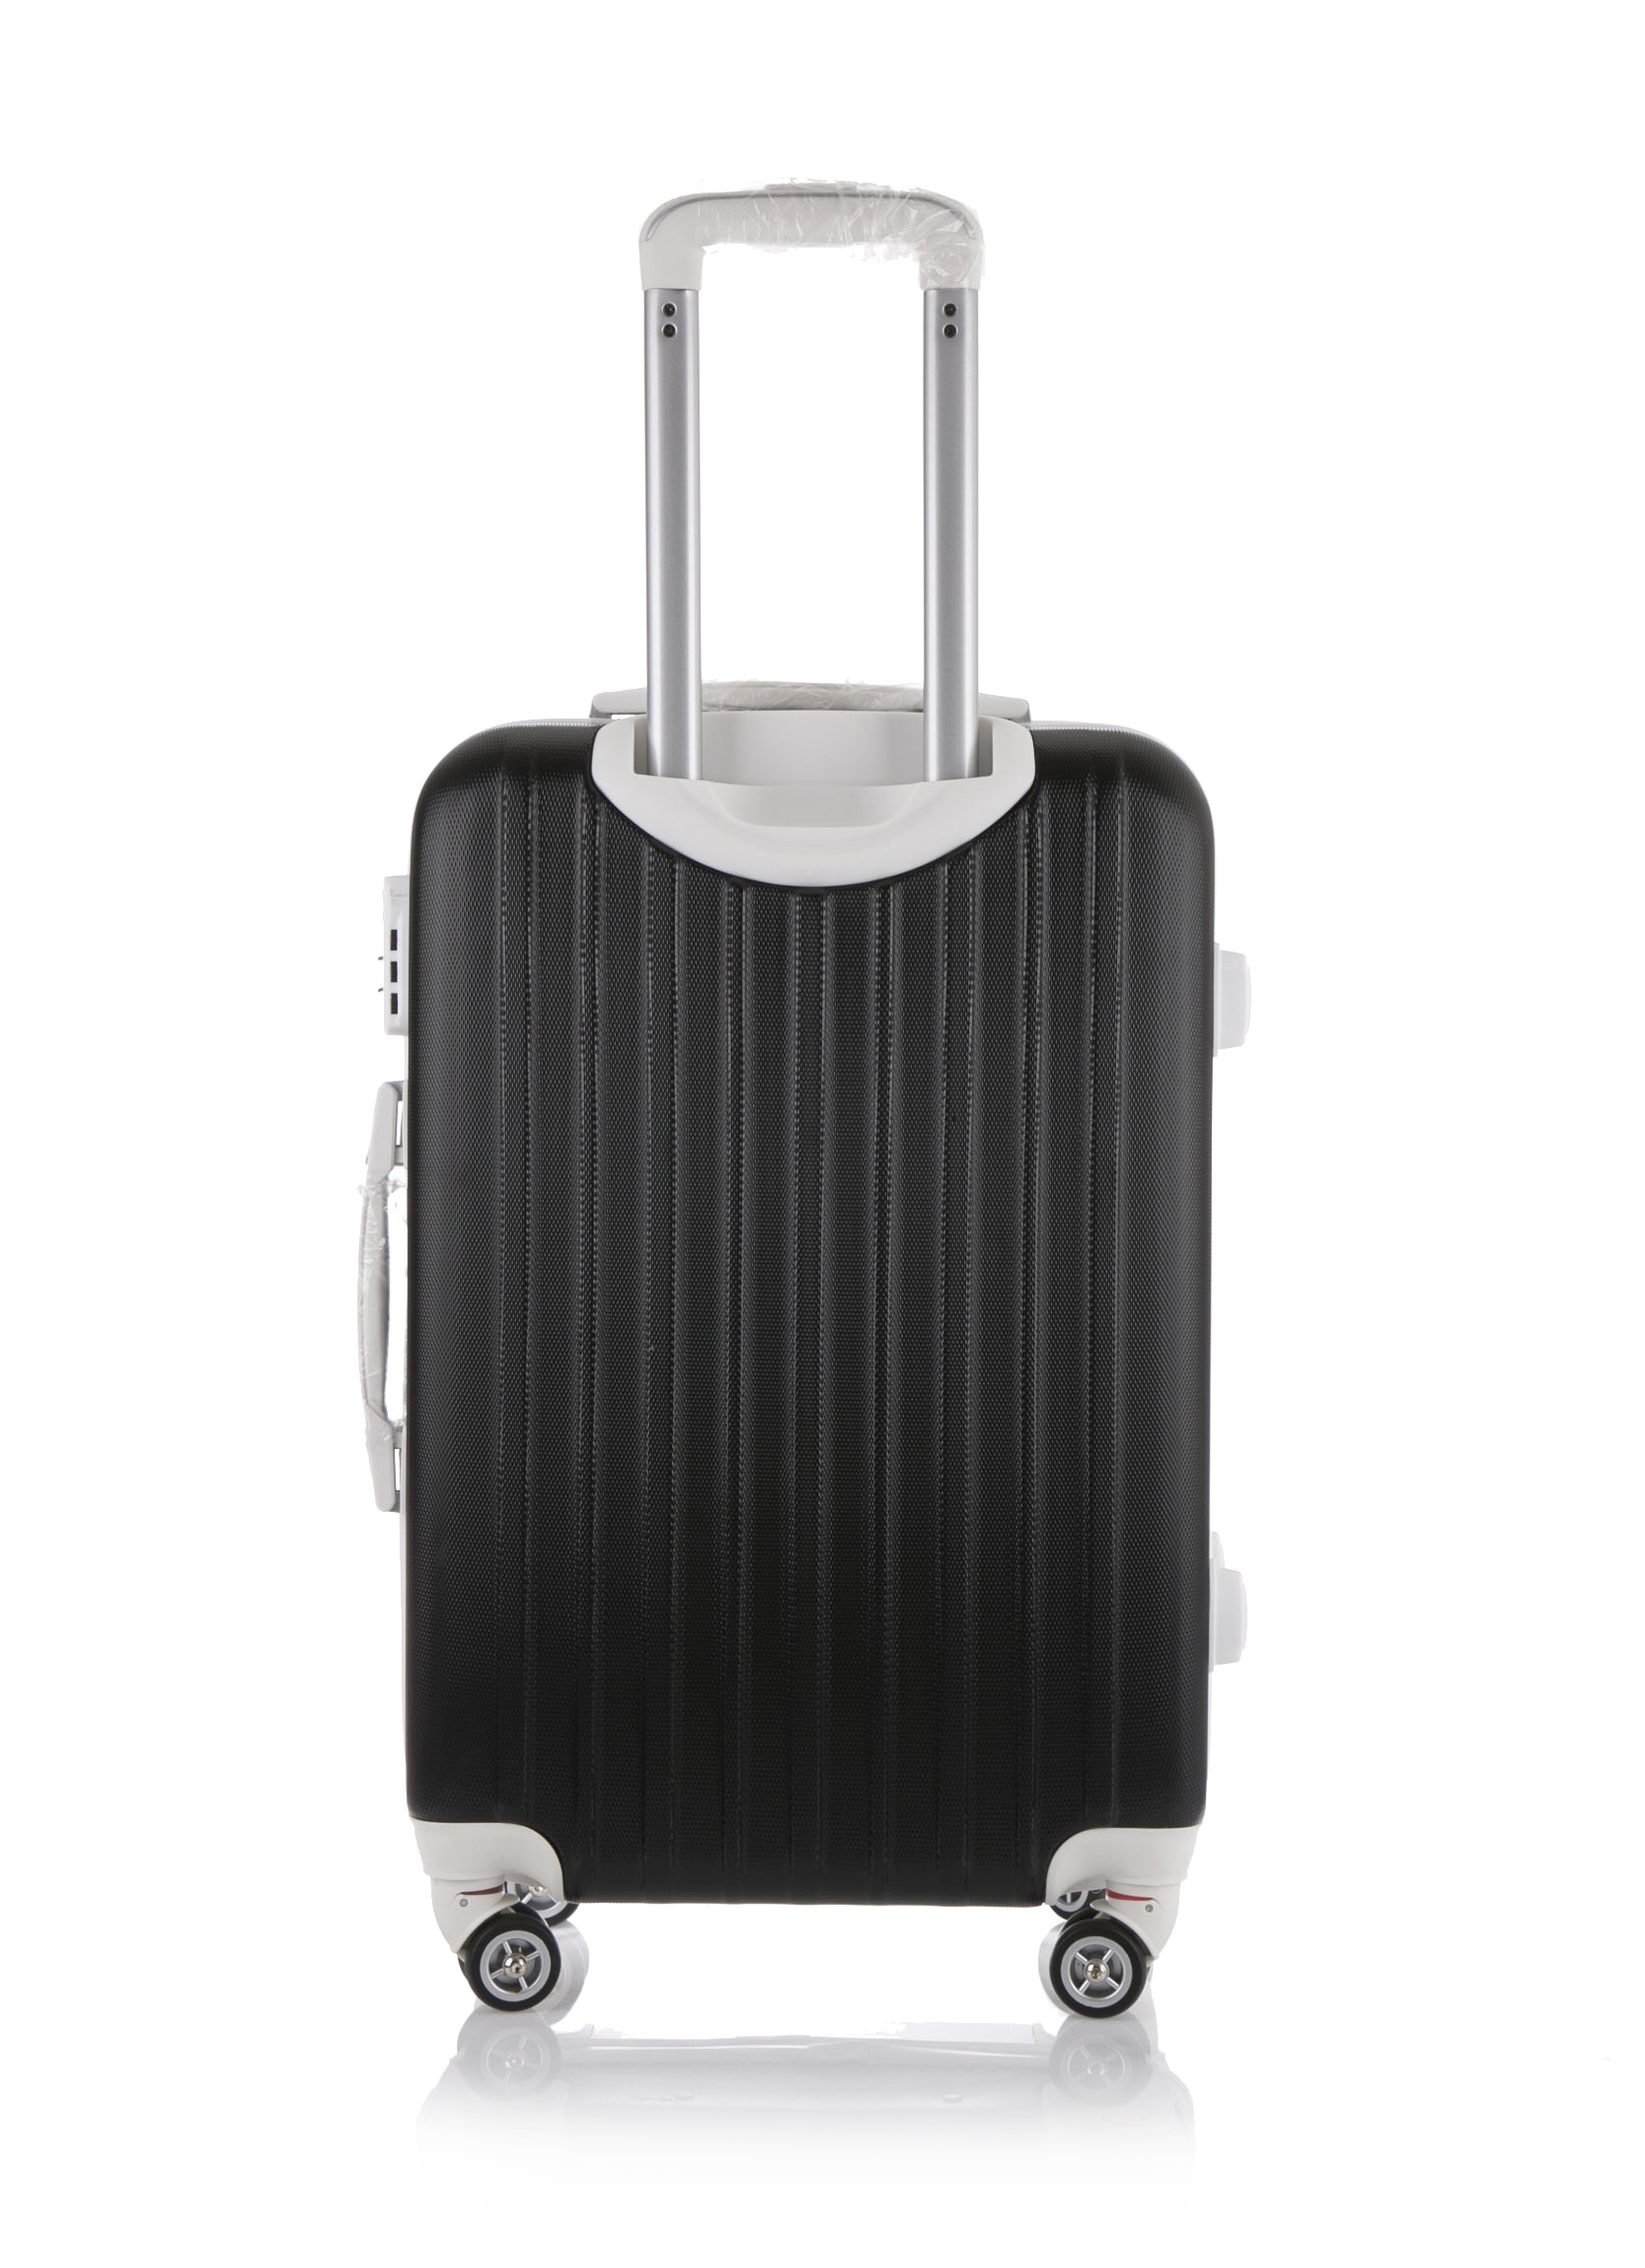luggage: (352, 174, 1252, 2016)
